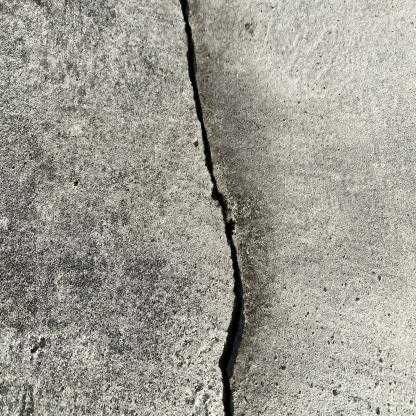crack: (179, 0, 246, 416)
